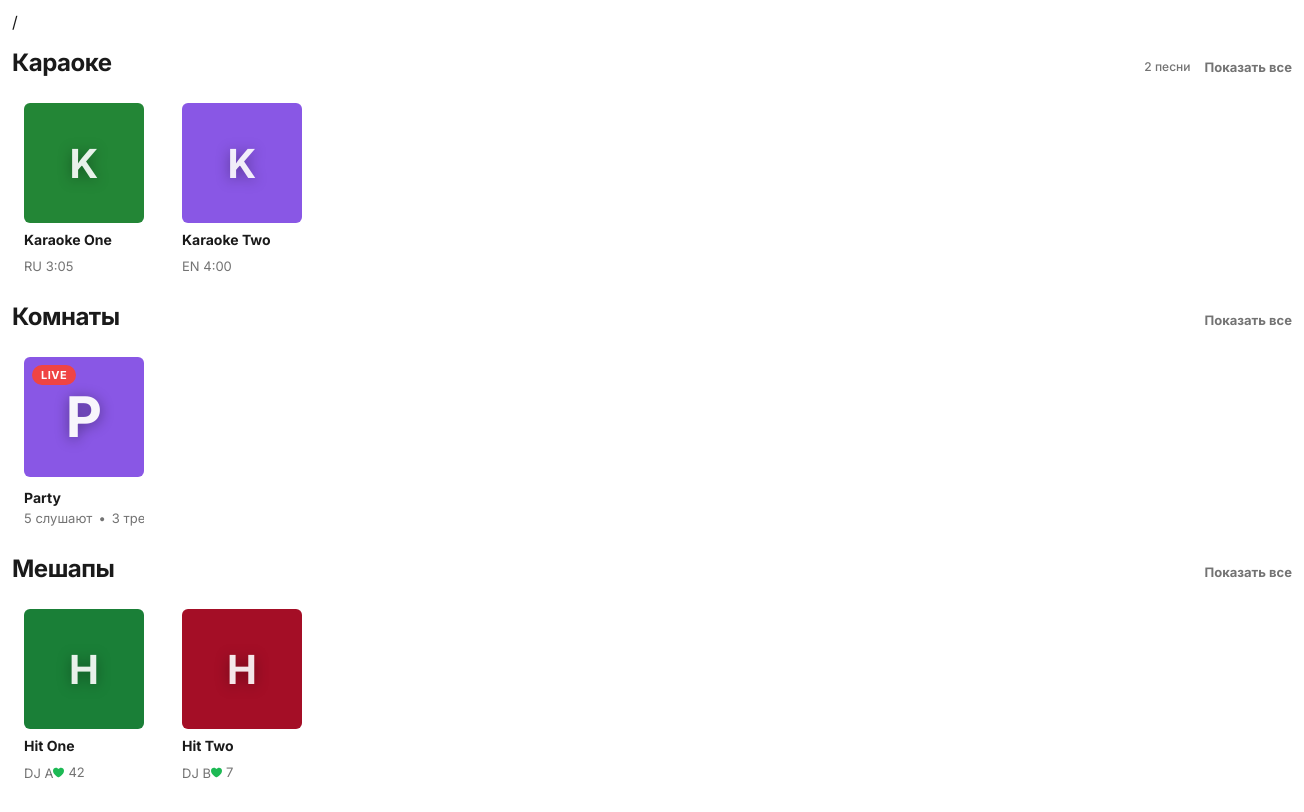
Test: Home › plays karaoke preview from the panel without a like button
What coordinates should you click on to do the following:
click the button with test id "karaoke-song-card" showing "K Karaoke One RU 3:05"
I would click on:
 (84, 188)
Its box is [12,91,156,286].
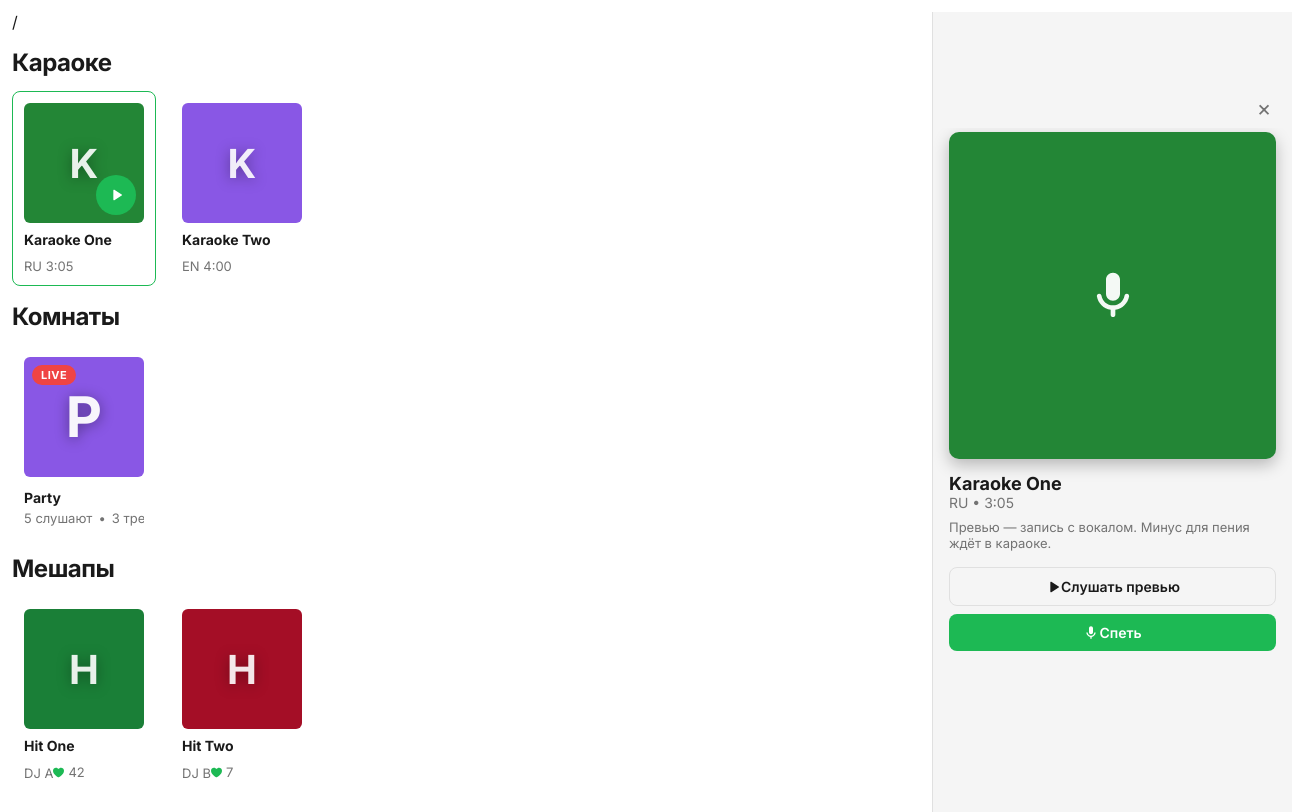
expect the element with test id "karaoke-preview-panel" is shown: met, box [932,12,1292,811]
What coordinates should you click on to do the following:
click the button "Слушать превью"
I would click on:
 (1112, 586)
Its box is [949,567,1276,606].
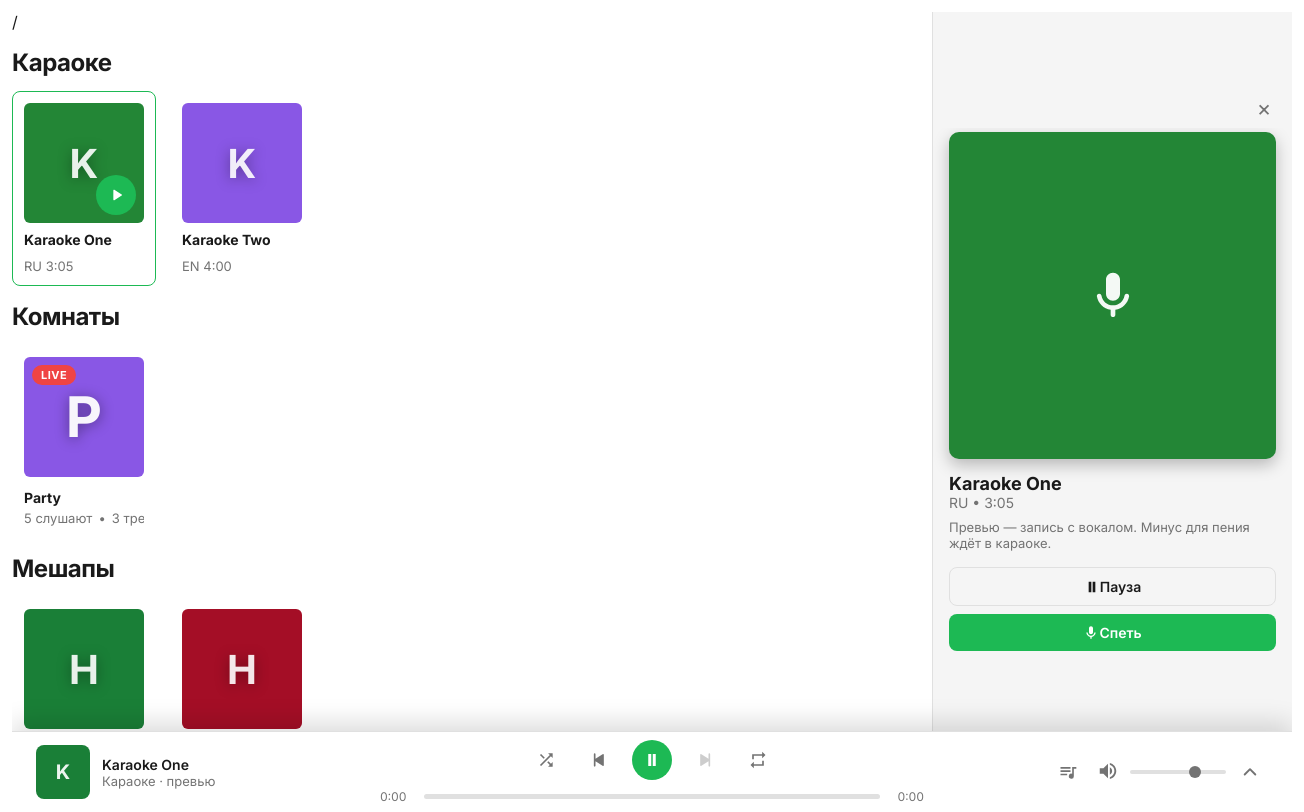
expect the button named "Expand player" is shown: met, box [1232,754,1268,790]
